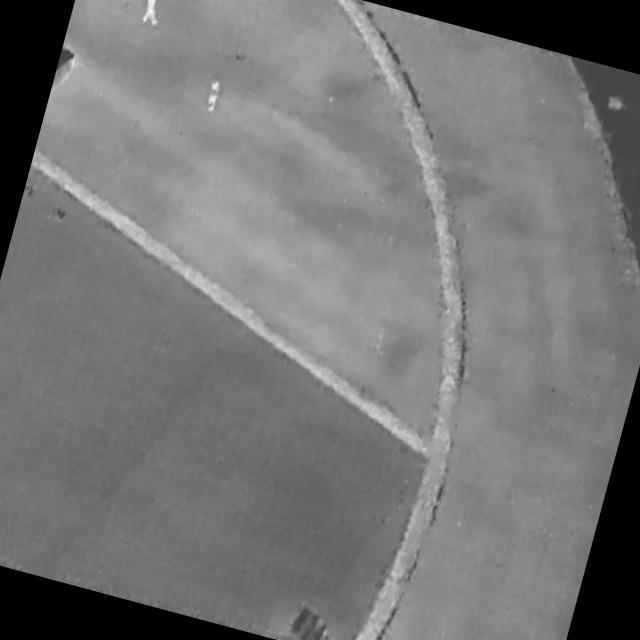person: (200, 76, 227, 114), (137, 1, 168, 31)
